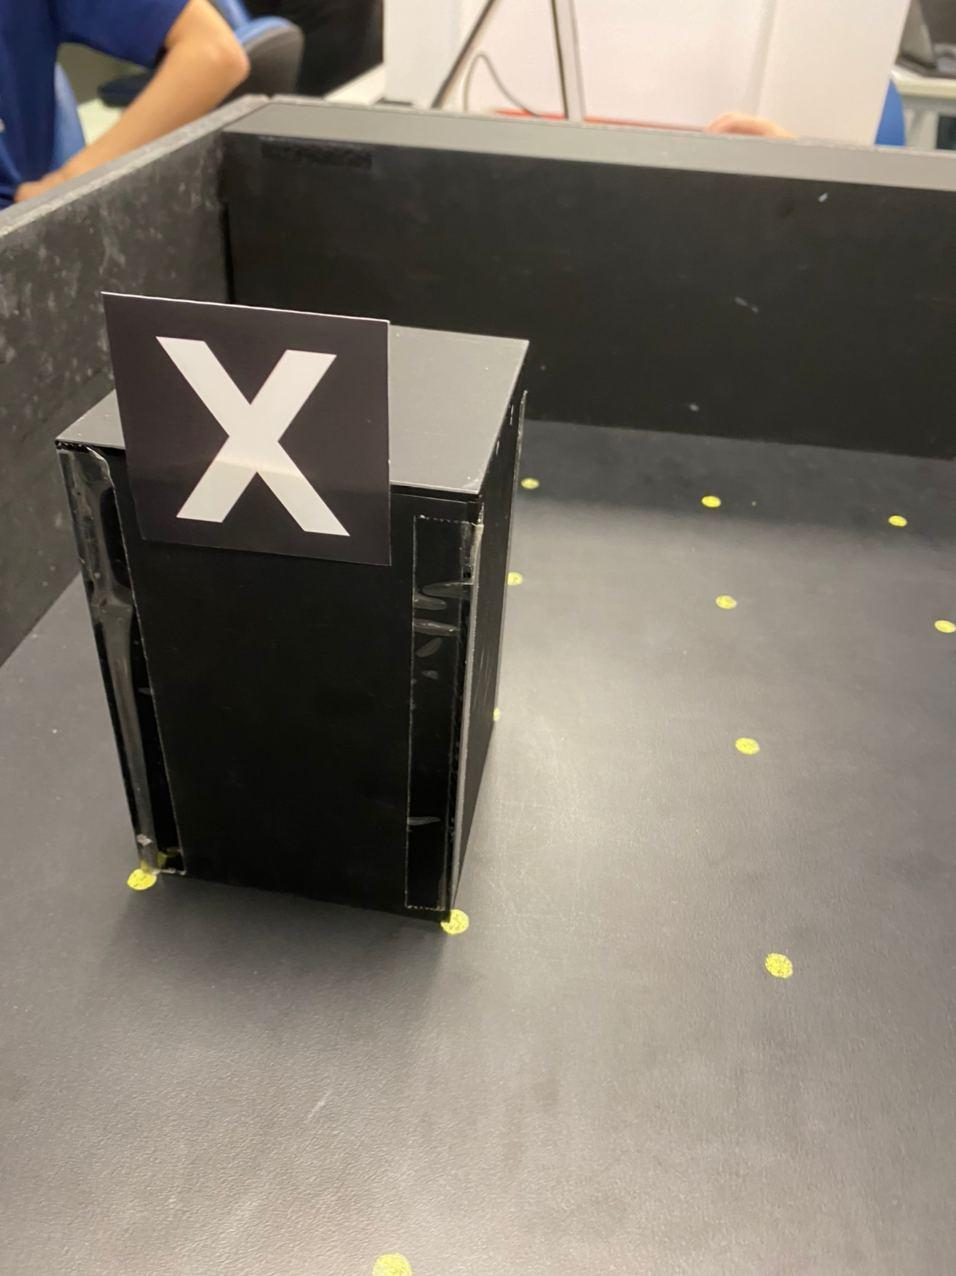x: (145, 320, 365, 545)
